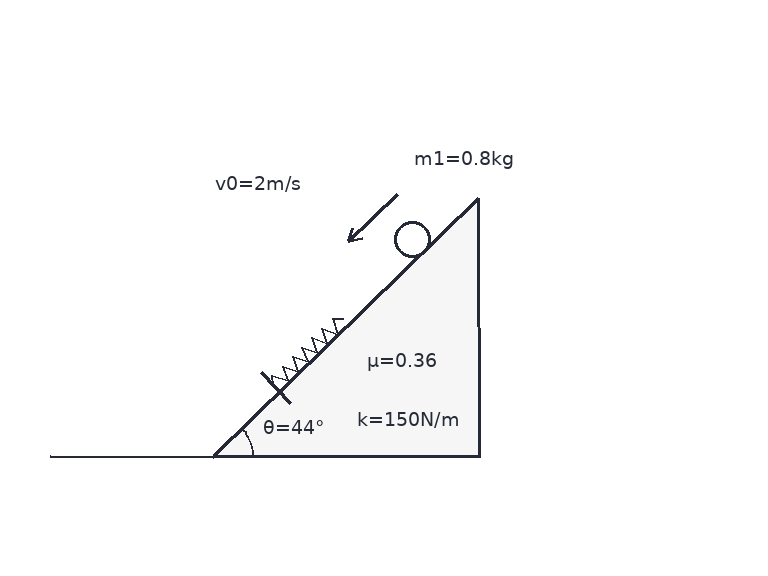ball: (392, 219, 432, 259)
ramp: (211, 197, 481, 458)
spring: (271, 316, 344, 387)
